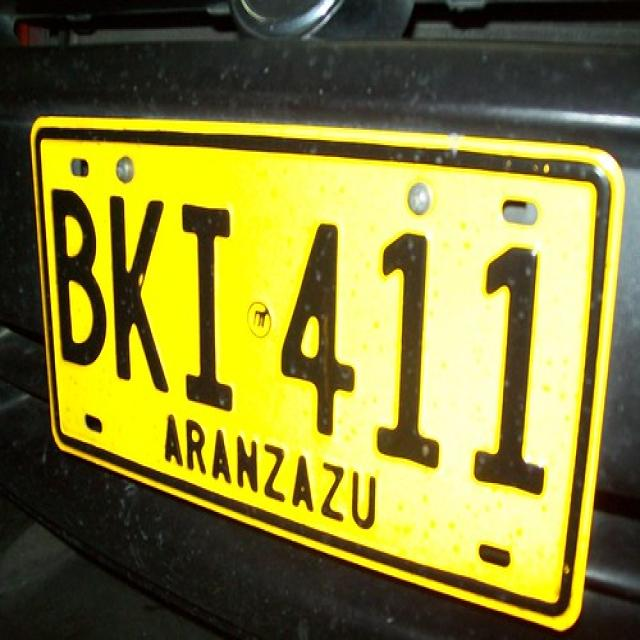placas: (40, 170, 601, 515)
